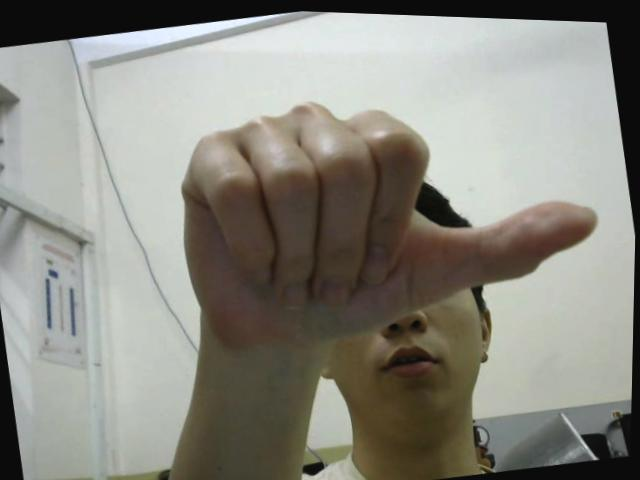A: (164, 52, 617, 372)
